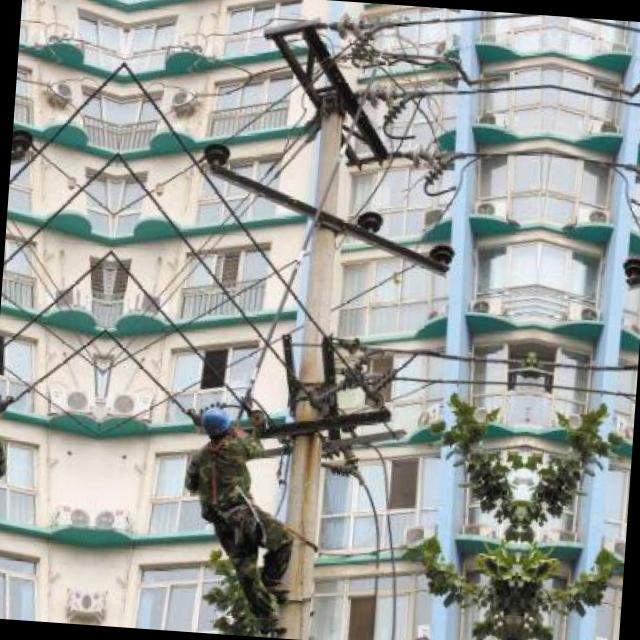helmet: (195, 404, 236, 444), (0, 389, 3, 428)
